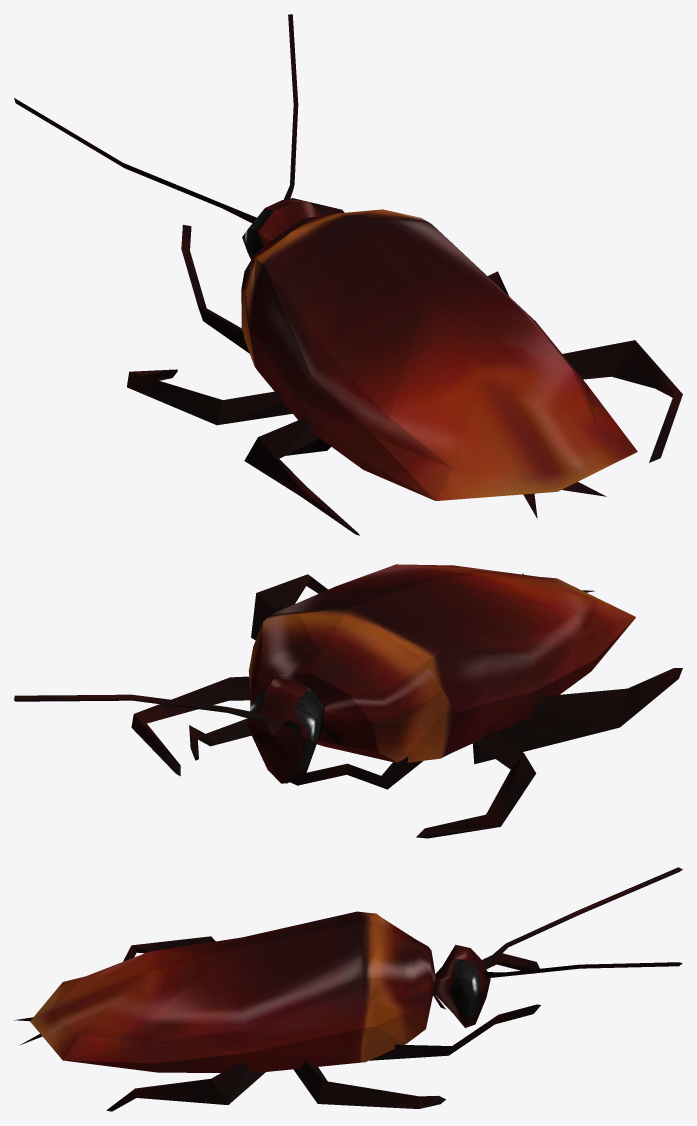
Rendered from cockroach.glb.
3 renders of one model, top to bottom at view 1: azimuth 30°, elevation 25°; view 2: azimuth 150°, elevation 25°; view 3: azimuth 270°, elevation 25°, orthographic. The views are drawn at different scales.
Visible parts, largest first — view 1: ZtoY, legs4, antenna4; view 2: ZtoY, legs4, antenna4; view 3: ZtoY, legs4, antenna4.
Part boxes in pixels (bbox=[...]): ZtoY: bbox=[241, 199, 637, 500]; legs4: bbox=[127, 198, 682, 535]; antenna4: bbox=[14, 14, 298, 223]; ZtoY: bbox=[246, 564, 635, 783]; legs4: bbox=[131, 574, 682, 838]; antenna4: bbox=[14, 694, 303, 783]; ZtoY: bbox=[30, 911, 490, 1072]; legs4: bbox=[106, 936, 540, 1111]; antenna4: bbox=[483, 867, 682, 978].
Size of the model in its own units: 4.84 by 2.42 by 9.2.
Materials: 1 (1 with a texture image).
